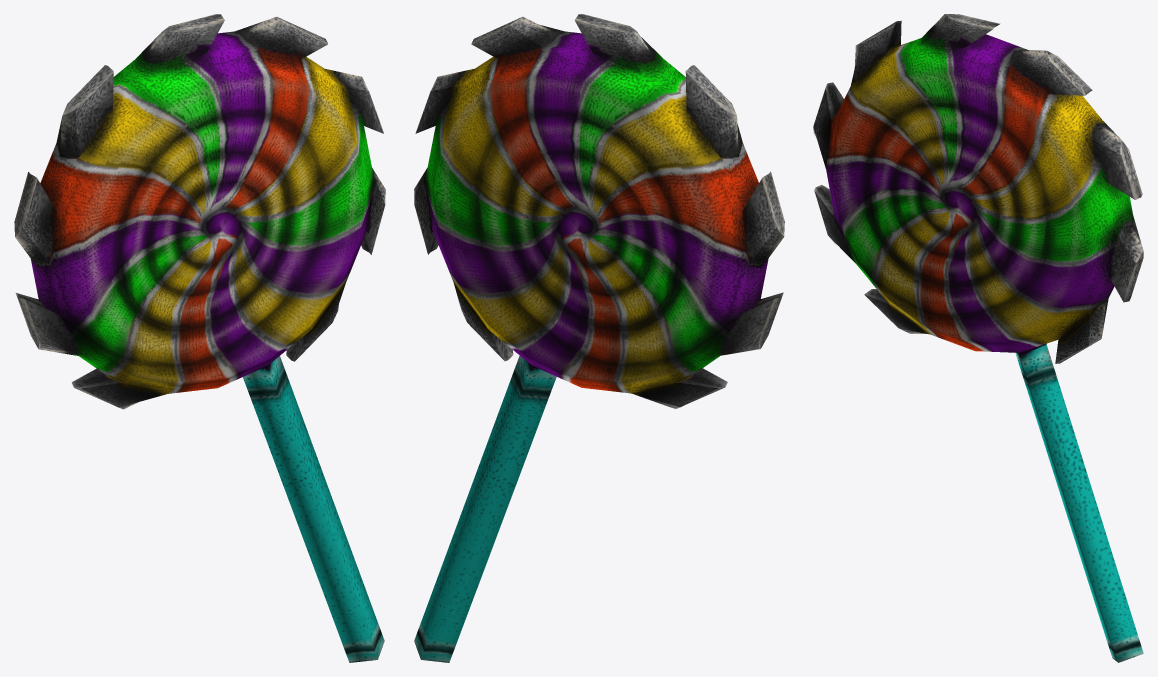
The model's file is BACK_LOLLIPOP.fbx.
The picture shows the model from 3 angles, left to right: view 1: azimuth 30°, elevation 25°; view 2: azimuth 150°, elevation 25°; view 3: azimuth 330°, elevation 25°; orthographic projection. The views are drawn at different scales.
Parts seen in each view (by area): view 1: BACK_LOLLIPOP; view 2: BACK_LOLLIPOP; view 3: BACK_LOLLIPOP.
Boxes of the visible parts, box(x1,y1,x2,y2) form: BACK_LOLLIPOP: box(14, 14, 385, 662); BACK_LOLLIPOP: box(414, 14, 784, 662); BACK_LOLLIPOP: box(813, 14, 1143, 662).
Size of the model in its own units: 0.0307 by 0.0538 by 0.0063.
